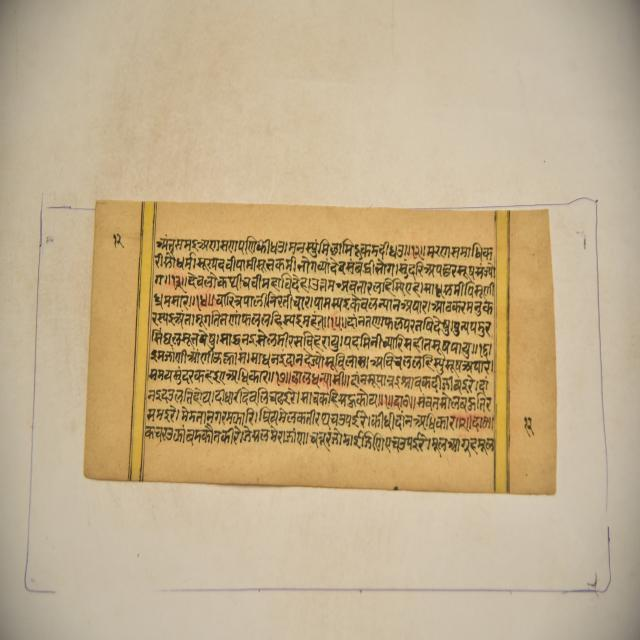text_paragraph: (79, 201, 557, 491)
